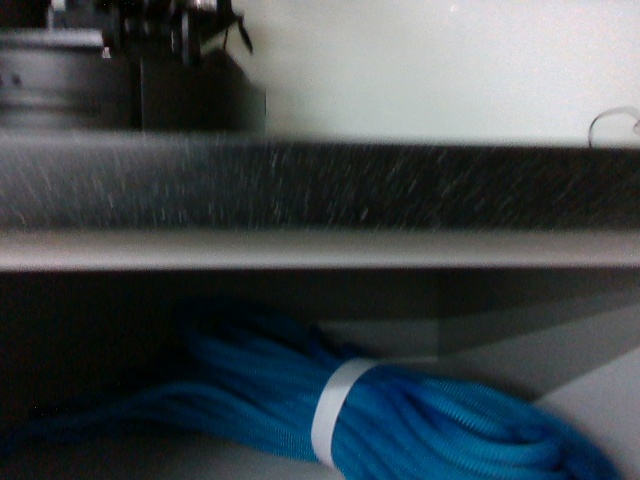rope: (142, 324, 571, 480)
